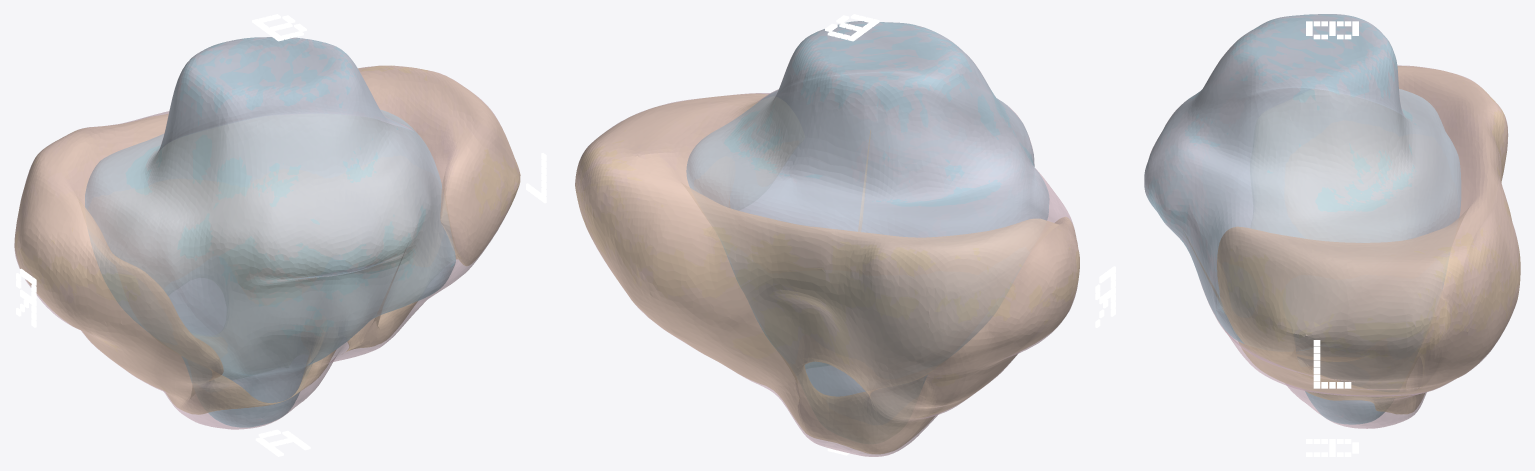
3 views of the same model, side by side, from view 1: azimuth 30°, elevation 25°; view 2: azimuth 150°, elevation 25°; view 3: azimuth 270°, elevation 25° (orthographic).
Visible parts, largest first — view 1: prostate_gland, transition_zone, peripheral_zone, pv_ar_marker_B, pv_ar_marker_R, pv_ar_marker_A; view 2: prostate_gland, peripheral_zone, transition_zone, pv_ar_marker_B, pv_ar_marker_R; view 3: prostate_gland, transition_zone, peripheral_zone, pv_ar_marker_B, pv_ar_marker_L, pv_ar_marker_A.
Boxes of the visible parts, bbox=[...] form: prostate_gland: bbox=[14, 37, 520, 429]; transition_zone: bbox=[85, 37, 455, 427]; peripheral_zone: bbox=[14, 65, 520, 414]; pv_ar_marker_B: bbox=[252, 14, 306, 41]; pv_ar_marker_R: bbox=[16, 268, 36, 327]; pv_ar_marker_A: bbox=[255, 429, 310, 456]; prostate_gland: bbox=[575, 21, 1079, 456]; peripheral_zone: bbox=[575, 94, 1079, 453]; transition_zone: bbox=[686, 21, 1049, 396]; pv_ar_marker_B: bbox=[825, 14, 879, 41]; pv_ar_marker_R: bbox=[1095, 266, 1115, 327]; prostate_gland: bbox=[1144, 14, 1520, 428]; transition_zone: bbox=[1144, 14, 1460, 424]; peripheral_zone: bbox=[1186, 66, 1520, 414]; pv_ar_marker_B: bbox=[1306, 21, 1358, 39]; pv_ar_marker_L: bbox=[1313, 340, 1351, 388]; pv_ar_marker_A: bbox=[1306, 439, 1358, 456].
Size of the model in its own units: 0.0608 by 0.0474 by 0.0385.
